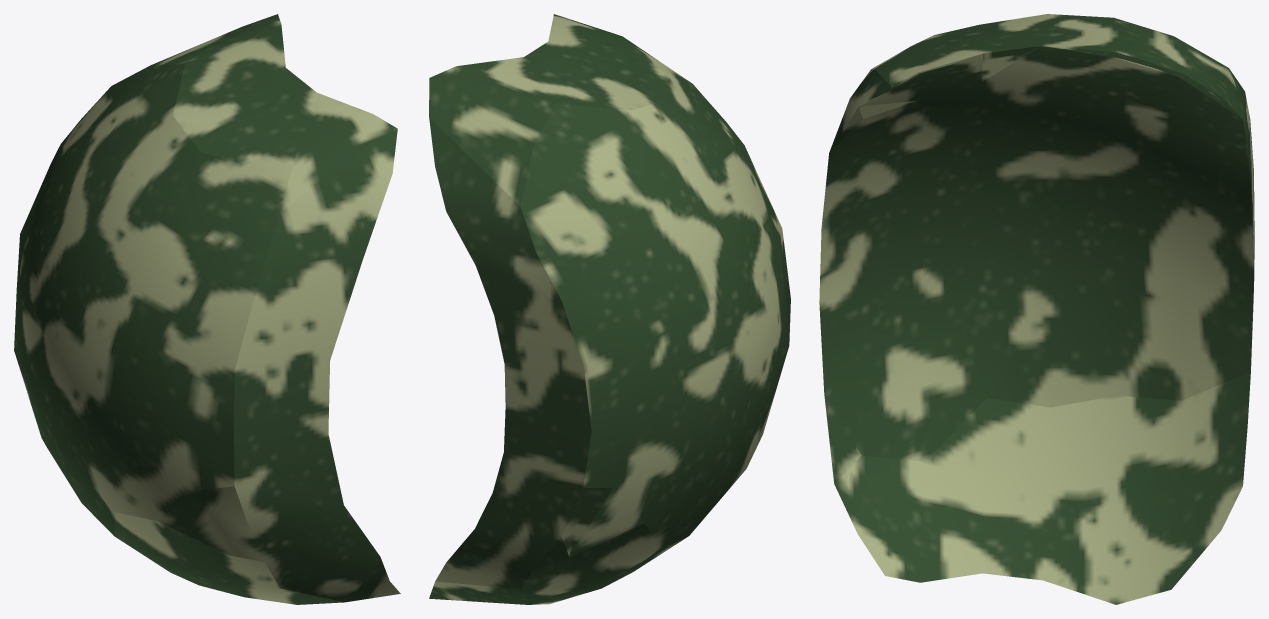
File: link_body_05_composite.obj
The picture shows the model from 3 angles, left to right: view 1: azimuth 30°, elevation 25°; view 2: azimuth 150°, elevation 25°; view 3: azimuth 270°, elevation 25°; orthographic projection. The views are drawn at different scales.
Visible parts, largest first — view 1: link_body_05; view 2: link_body_05; view 3: link_body_05.
Part boxes in pixels (<box>): link_body_05: <box>14,14,400,604</box>; link_body_05: <box>429,14,790,604</box>; link_body_05: <box>819,14,1254,604</box>.
Bounding box in the file's own units: 8.83 × 16.22 × 11.57.
1 material, 1 textured.
